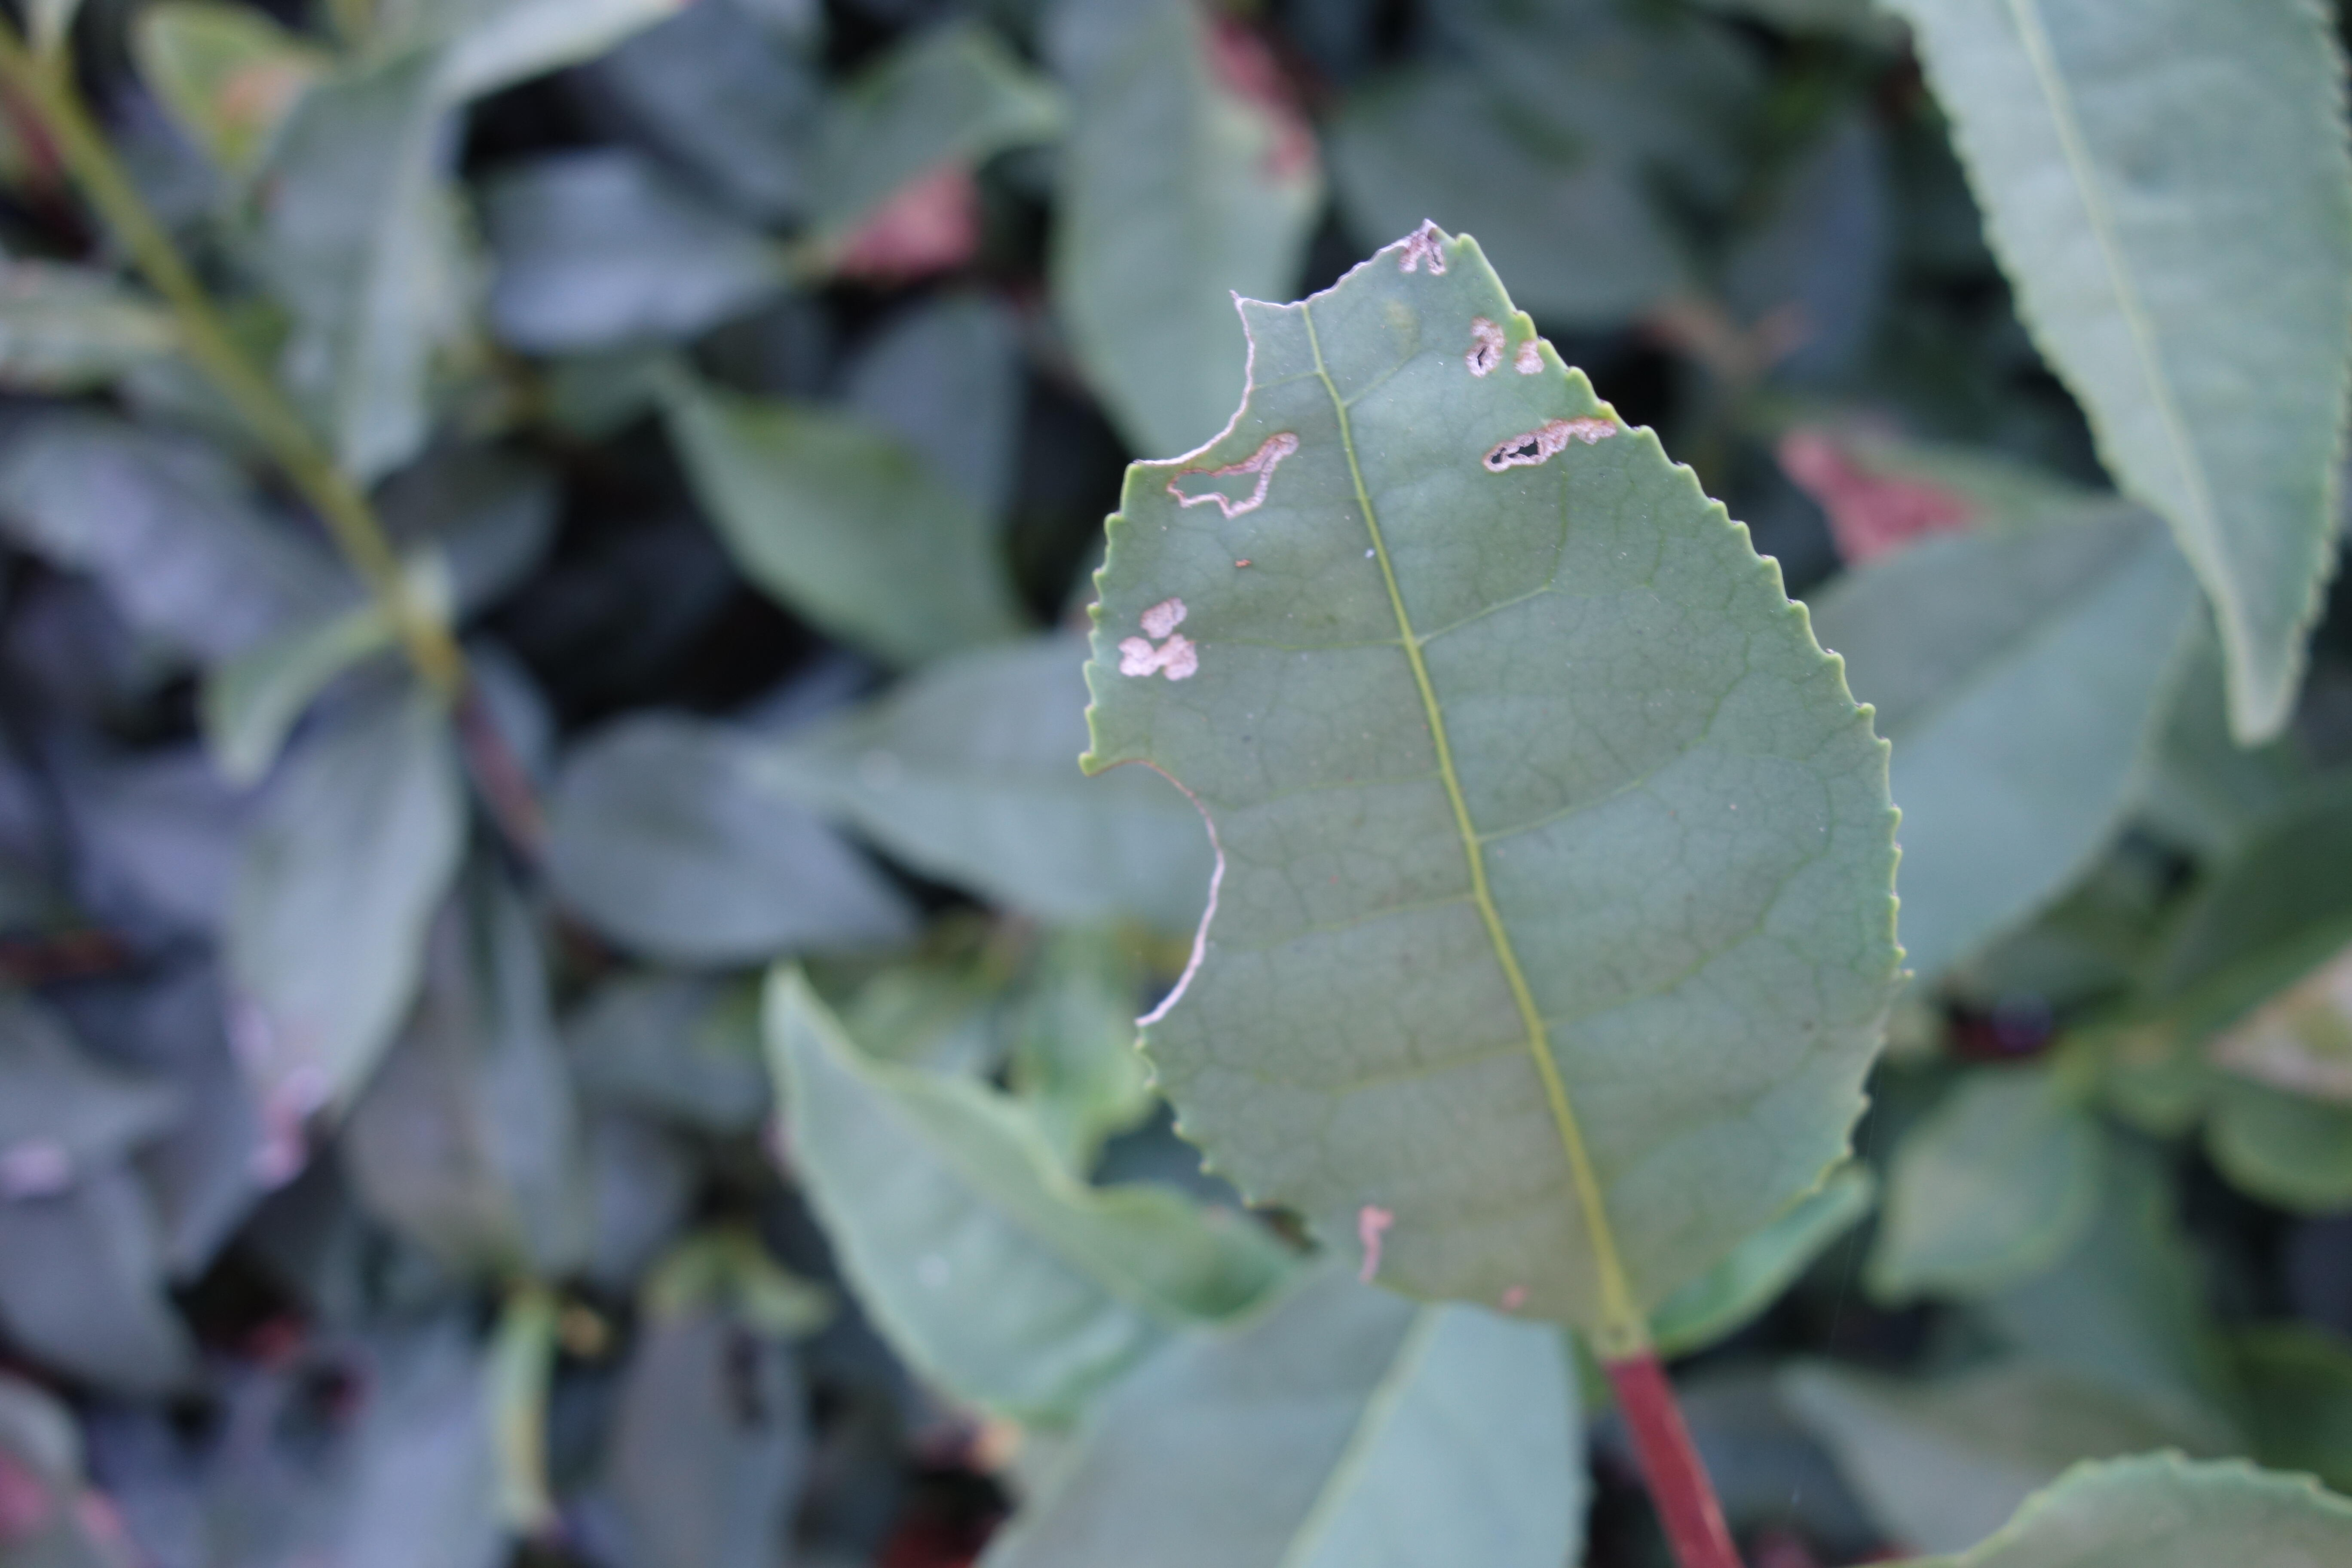chihuo_high: (1080, 220, 1911, 1353)
